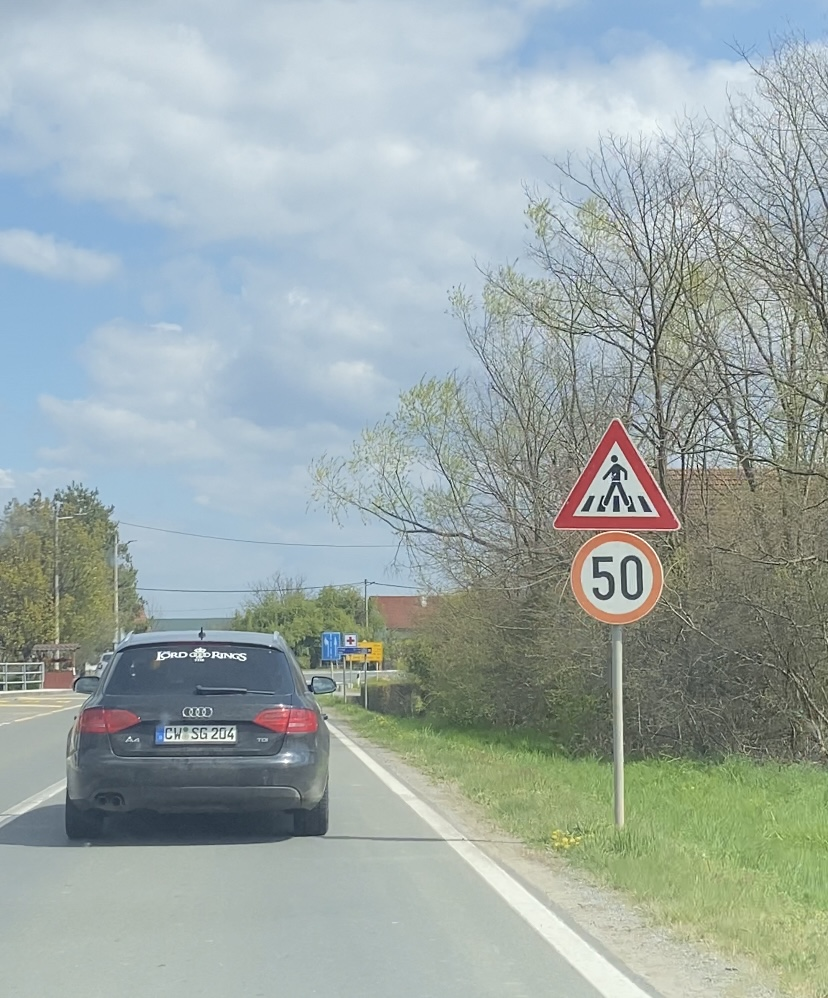Ograničenje brzine 50: (570, 531, 664, 624)
Približavanje pješačkom prijelazu: (553, 417, 680, 531)
